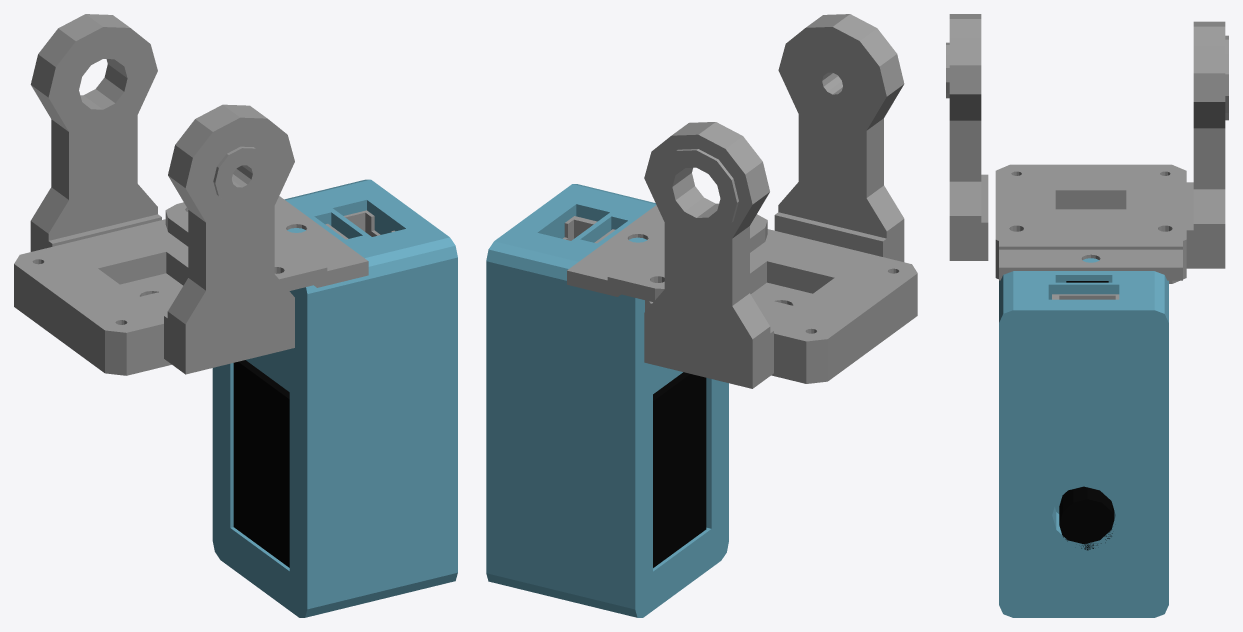
The model's file is head-reye-y.glb.
The picture shows the model from 3 angles, left to right: view 1: azimuth 30°, elevation 25°; view 2: azimuth 150°, elevation 25°; view 3: azimuth 270°, elevation 25°; orthographic projection. The views are drawn at different scales.
Bounding box in the file's own units: 0.0507 × 0.0767 × 0.04.
